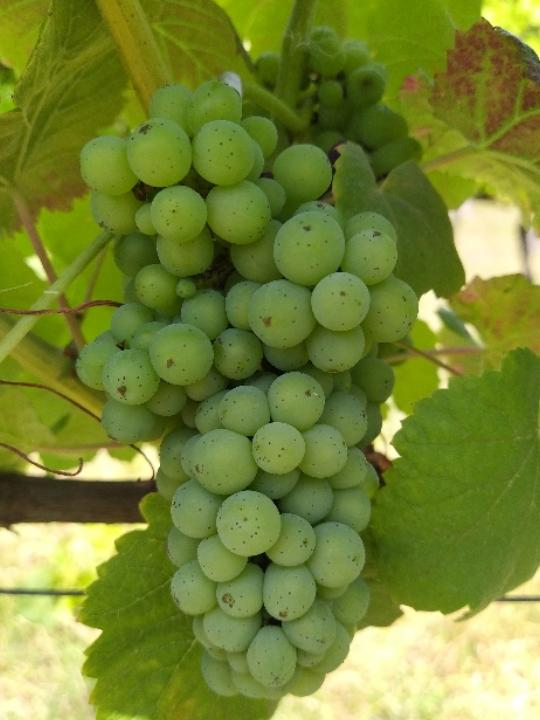grape: (77, 70, 424, 703)
